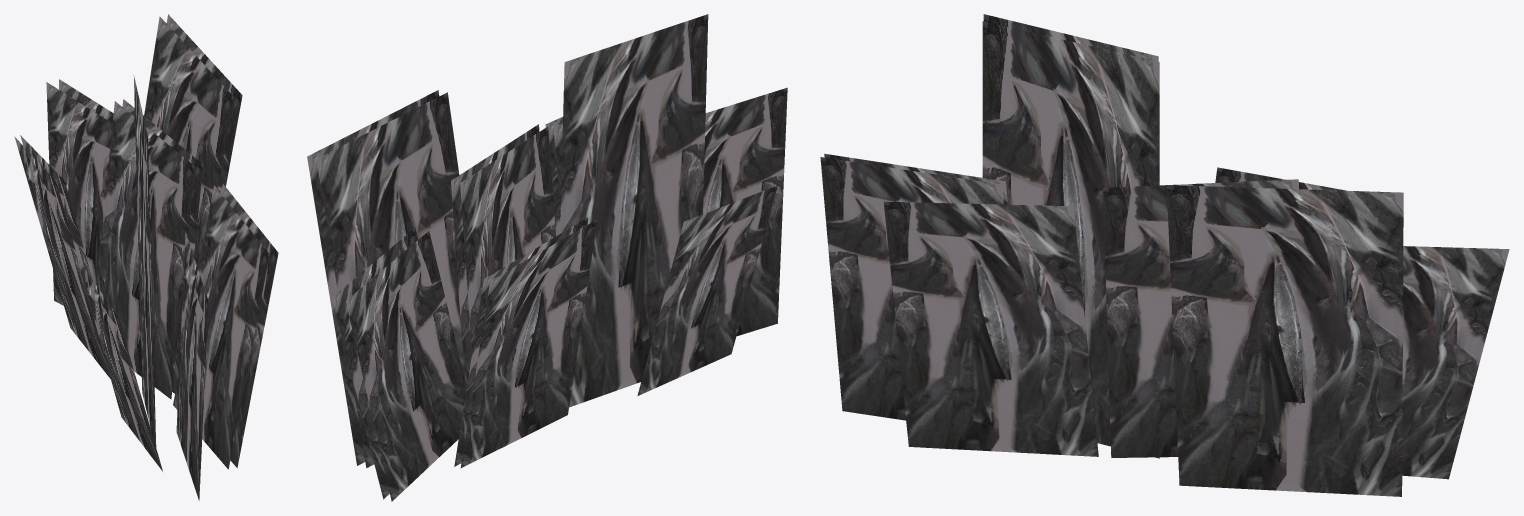
The model's file is Item_map35_yumao_02.FBX.
The picture shows the model from 3 angles, left to right: view 1: azimuth 30°, elevation 25°; view 2: azimuth 150°, elevation 25°; view 3: azimuth 270°, elevation 25°; orthographic projection. The views are drawn at different scales.
Parts seen in each view (by area): view 1: Item_map35_yumao_02; view 2: Item_map35_yumao_02; view 3: Item_map35_yumao_02.
Part boxes in pixels (x1,y1,x2,y2): Item_map35_yumao_02: (14,14,278,500); Item_map35_yumao_02: (307,14,787,501); Item_map35_yumao_02: (820,14,1509,496).
Bounding box in the file's own units: 114 × 145 × 227.
Materials: 1 (1 with a texture image).
